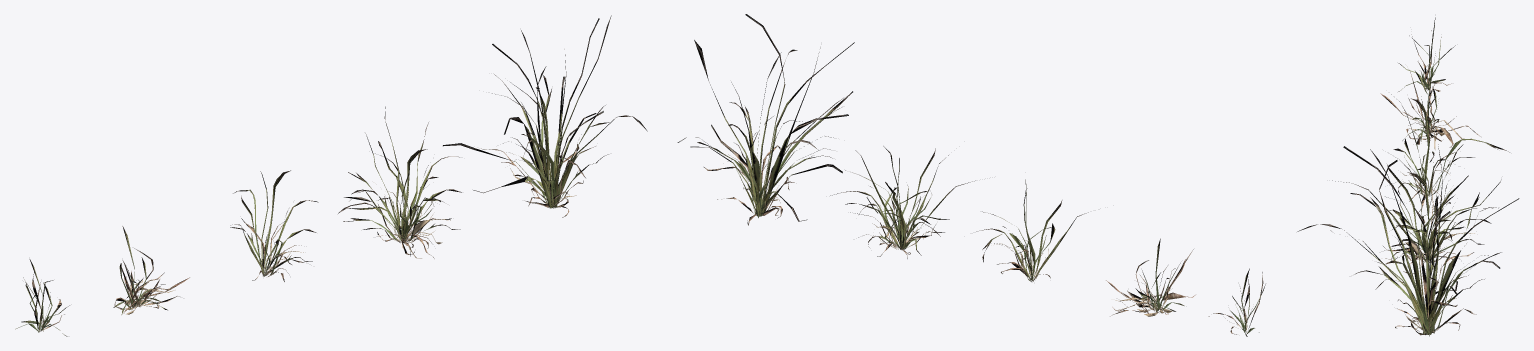
Rendered from grass_medium_02.glb.
The picture shows the model from 3 angles, left to right: view 1: azimuth 30°, elevation 25°; view 2: azimuth 150°, elevation 25°; view 3: azimuth 270°, elevation 25°; orthographic projection. The views are drawn at different scales.
Parts seen in each view (by area): view 1: grass_medium_02_a; view 2: grass_medium_02_a; view 3: grass_medium_02_a.
Boxes of the visible parts, x1,y1,x2,y2 form: grass_medium_02_a: (15, 15, 647, 336); grass_medium_02_a: (677, 14, 1265, 336); grass_medium_02_a: (1297, 17, 1519, 336).
Bounding box in the file's own units: 1.3 × 0.4053 × 0.4326.
1 material, 1 textured.
